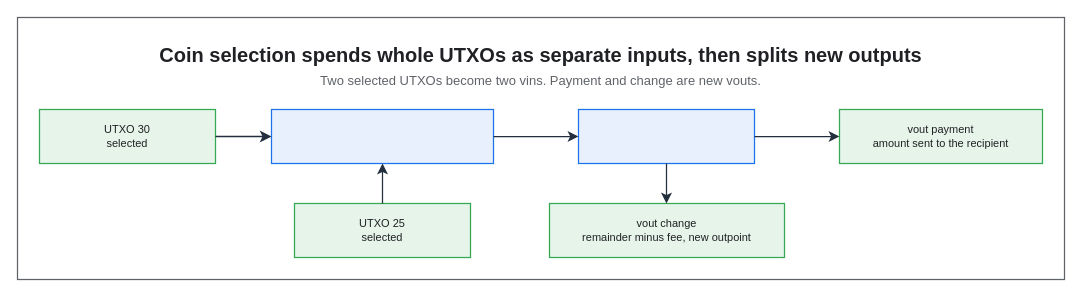
Some shapes in this 1083 by 298 pixel diagram are drawn without their labels. The centre of each missing label's shape, as x and y in pixels:
new transaction vin[0] and vin[1]: the point at 666,136
selected inputs 30 plus 25 covers send plus fee: the point at 382,136
